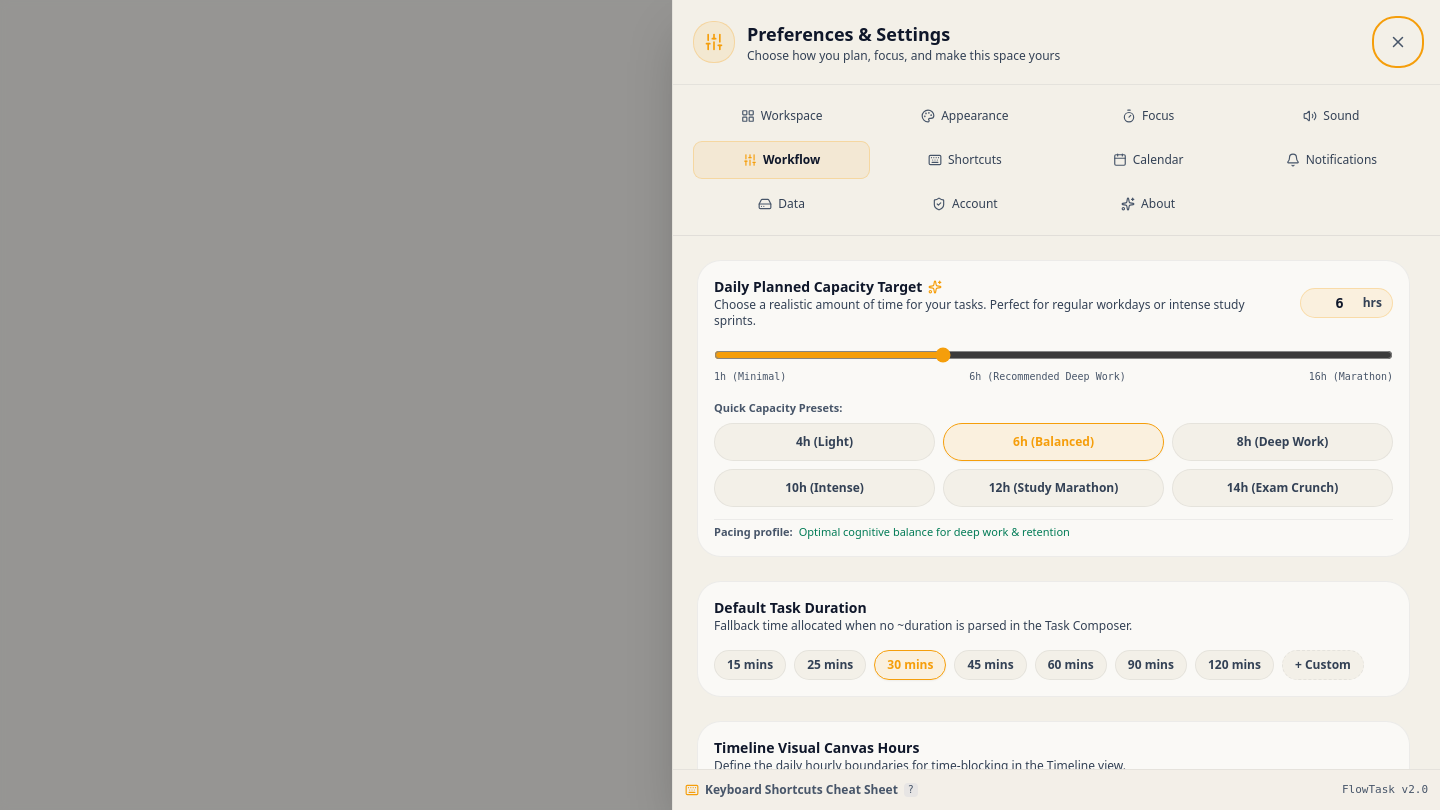
SettingsDrawer Component › opens settings without a search bar and keeps direct group navigation
This screenshot has width=1440, height=810.
Click the button "Focus".
click(1148, 116)  # box [1060, 97, 1237, 135]
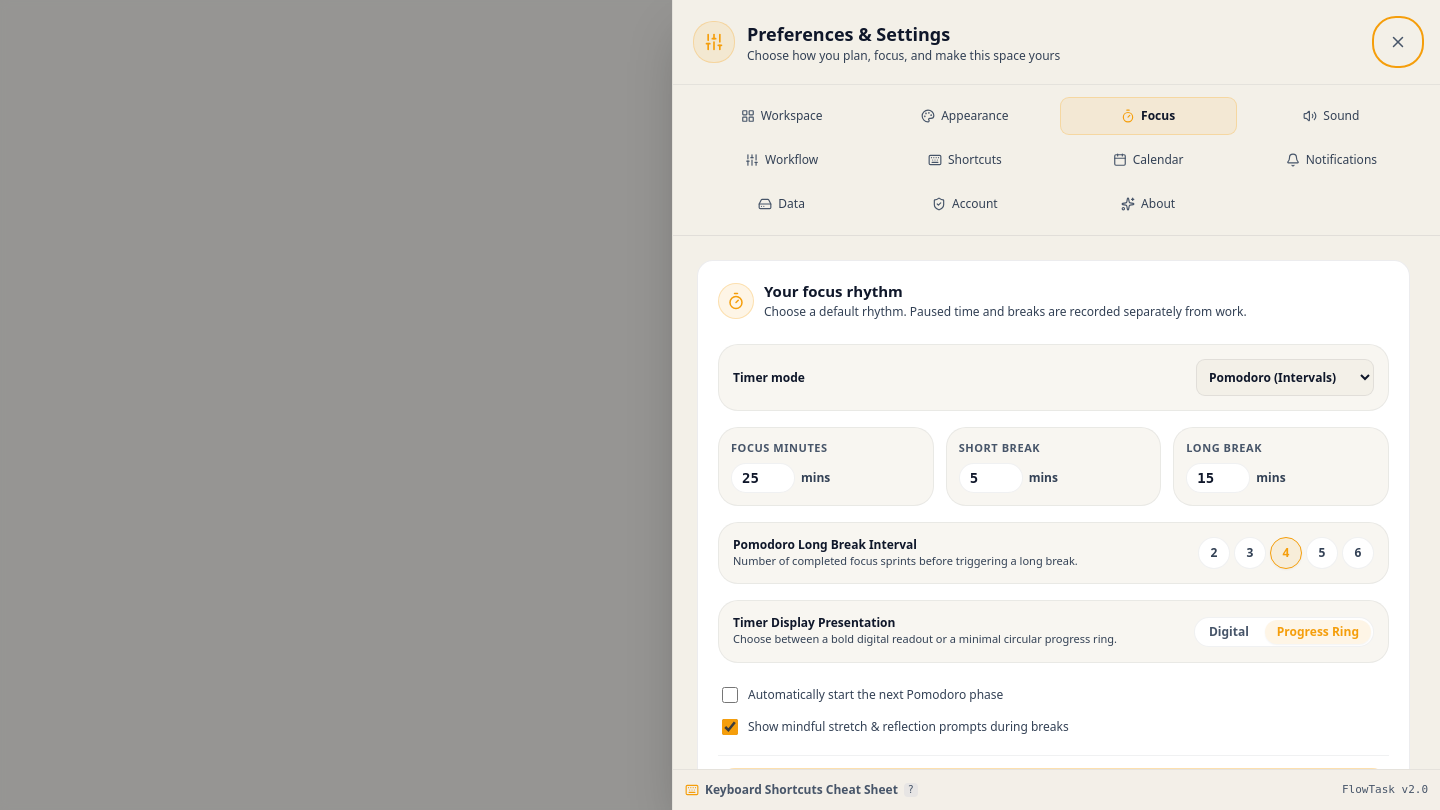
Check: the heading "Your focus rhythm" is shown, box [764, 281, 903, 301]
